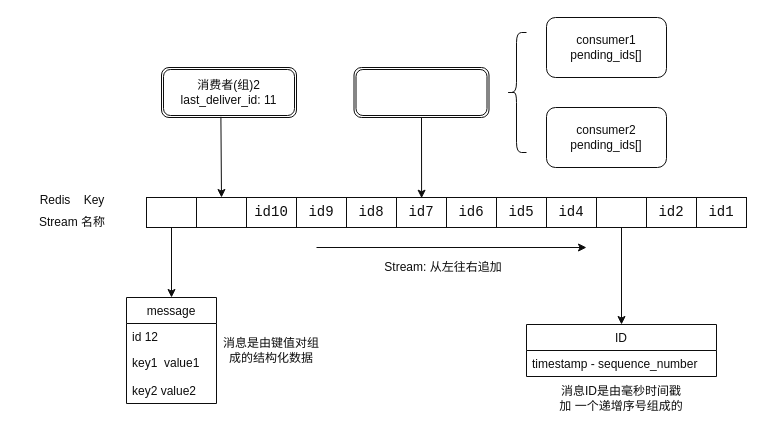
Image size: 764x430. Some labels were removed from this diagram. The box of each missing label's shape, as (x1, y1, x2, y2) in pixels:
id11: (196, 196, 246, 228)
id12: (146, 196, 196, 228)
id3: (596, 196, 646, 228)
消费者(组)1 last_deliver_id: 7: (353, 66, 489, 118)
